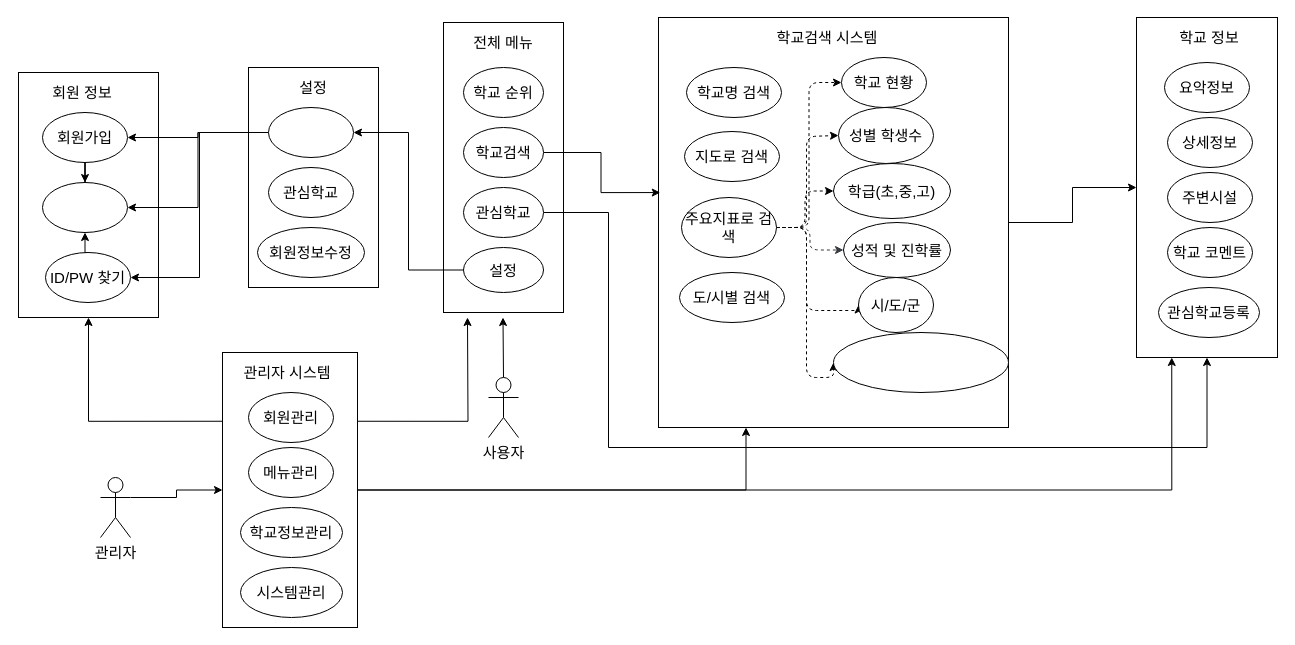
Image size: 1295x645. Some labels were removed from this diagram. The shapes that lost their labels are listed below. From the top down, each one's centre as x and y in pixels, then its label:
point 311,132: 로그인, 로그아웃
point 85,207: 로그인
point 920,362: 설립(국립,공립,사립)
